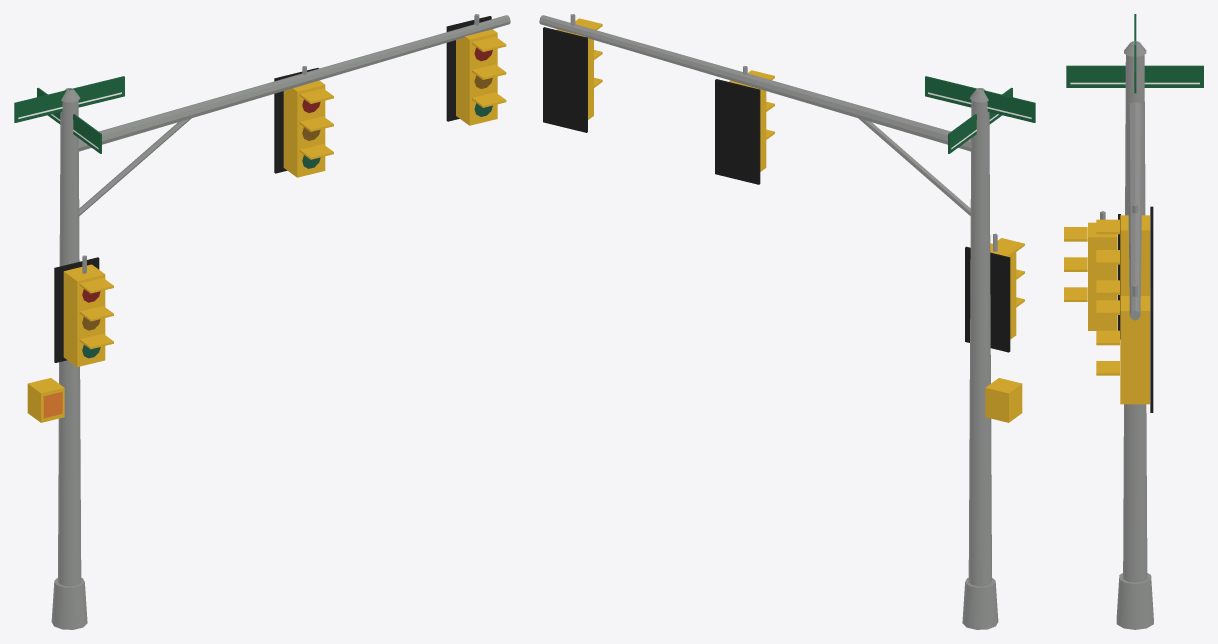
File: nyc_traffic_signal.glb
3 views of the same model, side by side, from view 1: azimuth 30°, elevation 25°; view 2: azimuth 150°, elevation 25°; view 3: azimuth 270°, elevation 25° (orthographic). The views are drawn at different scales.
Visible parts, largest first — view 1: nyc_traffic_signal; view 2: nyc_traffic_signal; view 3: nyc_traffic_signal.
Part boxes in pixels (bbox=[...]): nyc_traffic_signal: bbox=[14, 14, 510, 629]; nyc_traffic_signal: bbox=[539, 14, 1035, 629]; nyc_traffic_signal: bbox=[1064, 14, 1203, 629].
Bounding box in the file's own units: 6.3 × 6.5 × 1.43.
1 material, 1 textured.
